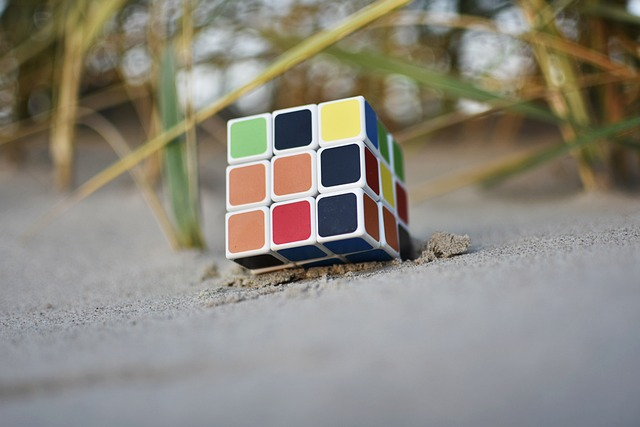cube: (224, 95, 414, 276)
